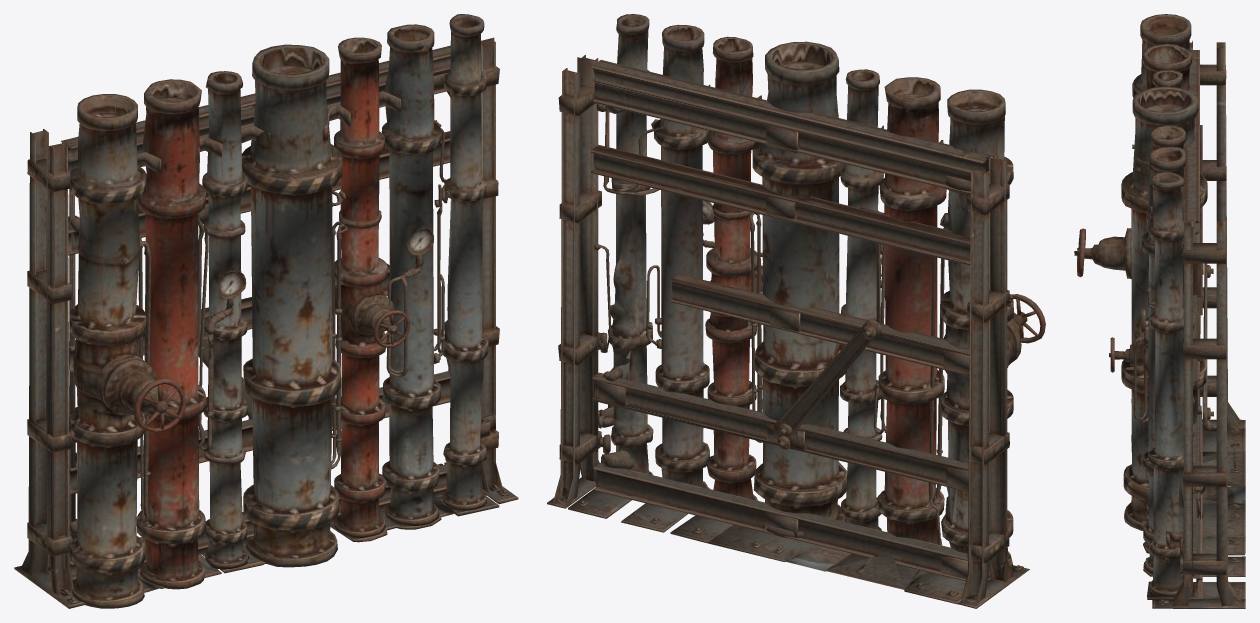
File: reactor-pipe-bank.glb
The picture shows the model from 3 angles, left to right: view 1: azimuth 30°, elevation 25°; view 2: azimuth 150°, elevation 25°; view 3: azimuth 270°, elevation 25°; orthographic projection. The views are drawn at different scales.
Visible parts, largest first — view 1: reactor-pipe-bank; view 2: reactor-pipe-bank; view 3: reactor-pipe-bank.
Part boxes in pixels (x1,y1,x2,y2): reactor-pipe-bank: (14,14,518,608); reactor-pipe-bank: (547,14,1045,608); reactor-pipe-bank: (1074,14,1245,608).
Size of the model in its own units: 3.87 by 4 by 1.49.
Materials: 1 (1 with a texture image).
